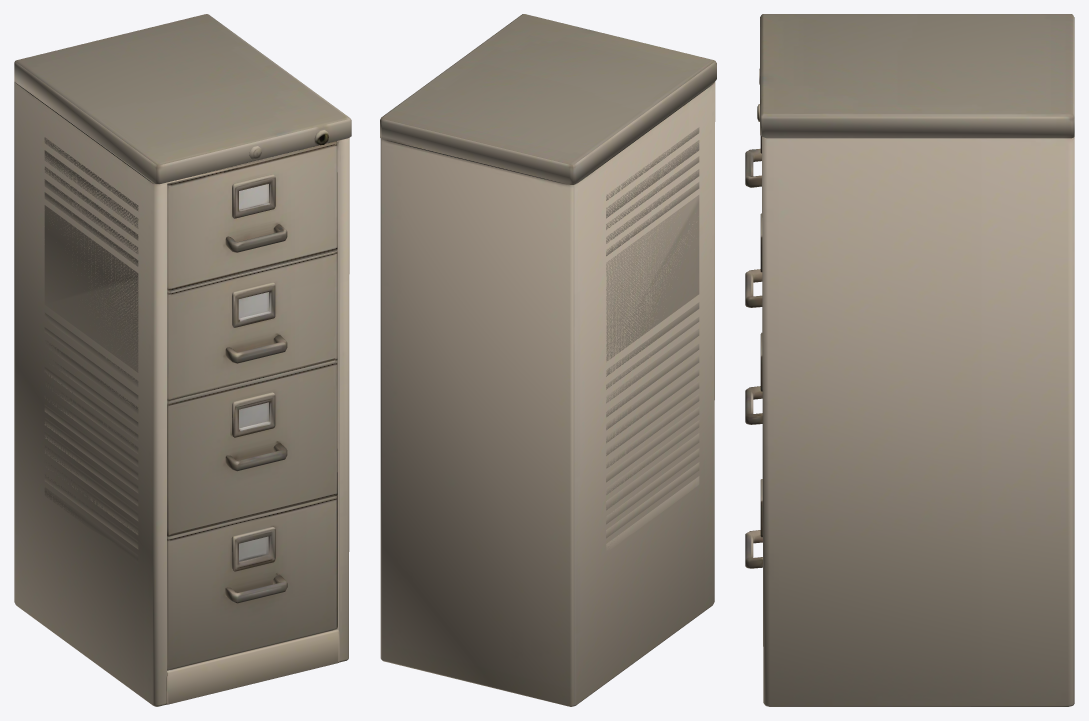
File: tall_filing_cabinet_78ed2fea_v3.glb
3 views of the same model, side by side, from view 1: azimuth 30°, elevation 25°; view 2: azimuth 150°, elevation 25°; view 3: azimuth 270°, elevation 25° (orthographic). The views are drawn at different scales.
Parts seen in each view (by area): view 1: material; view 2: material; view 3: material.
Boxes of the visible parts, left/top/right/bottom form: material: left=14, top=14, right=351, bottom=706; material: left=380, top=14, right=716, bottom=706; material: left=745, top=14, right=1074, bottom=706.
Size of the model in its own units: 0.7134 by 1.9 by 0.9567.
Materials: 1 (1 with a texture image).
